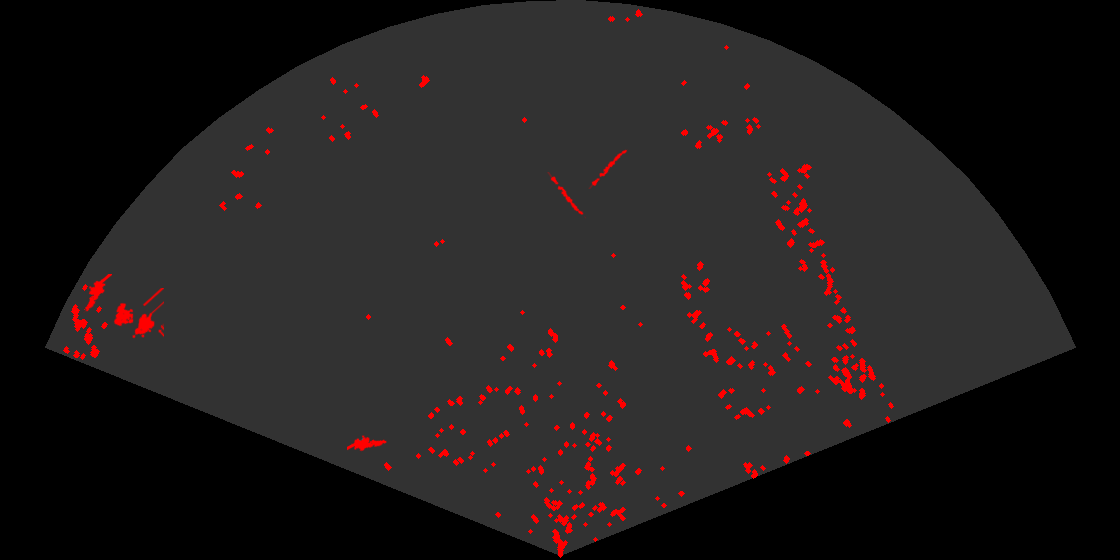cage: (112, 288, 164, 340)
chain: (546, 172, 586, 220), (587, 148, 629, 189)
frogman: (82, 274, 112, 313), (347, 434, 387, 453)
